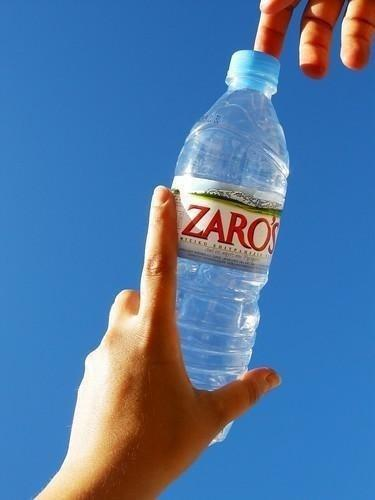bottle-plastic: (171, 45, 289, 442)
